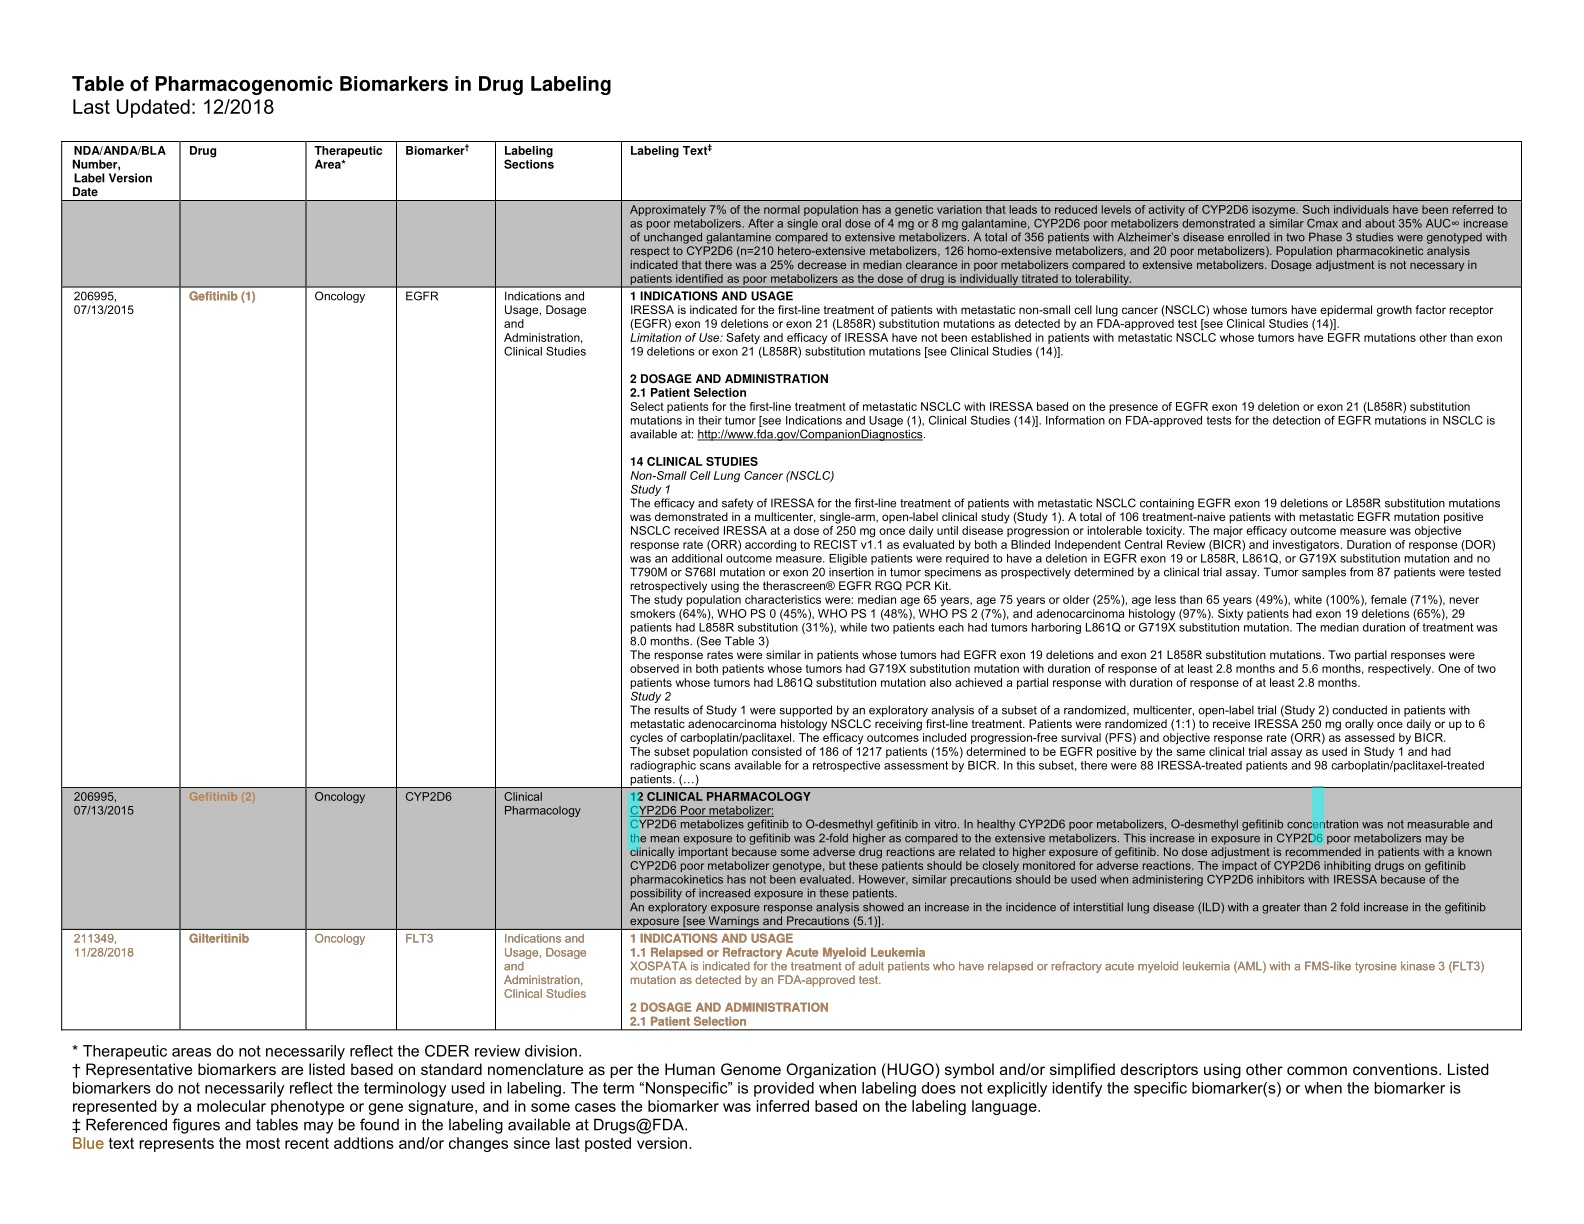full_lined: (60, 141, 1522, 1031)
